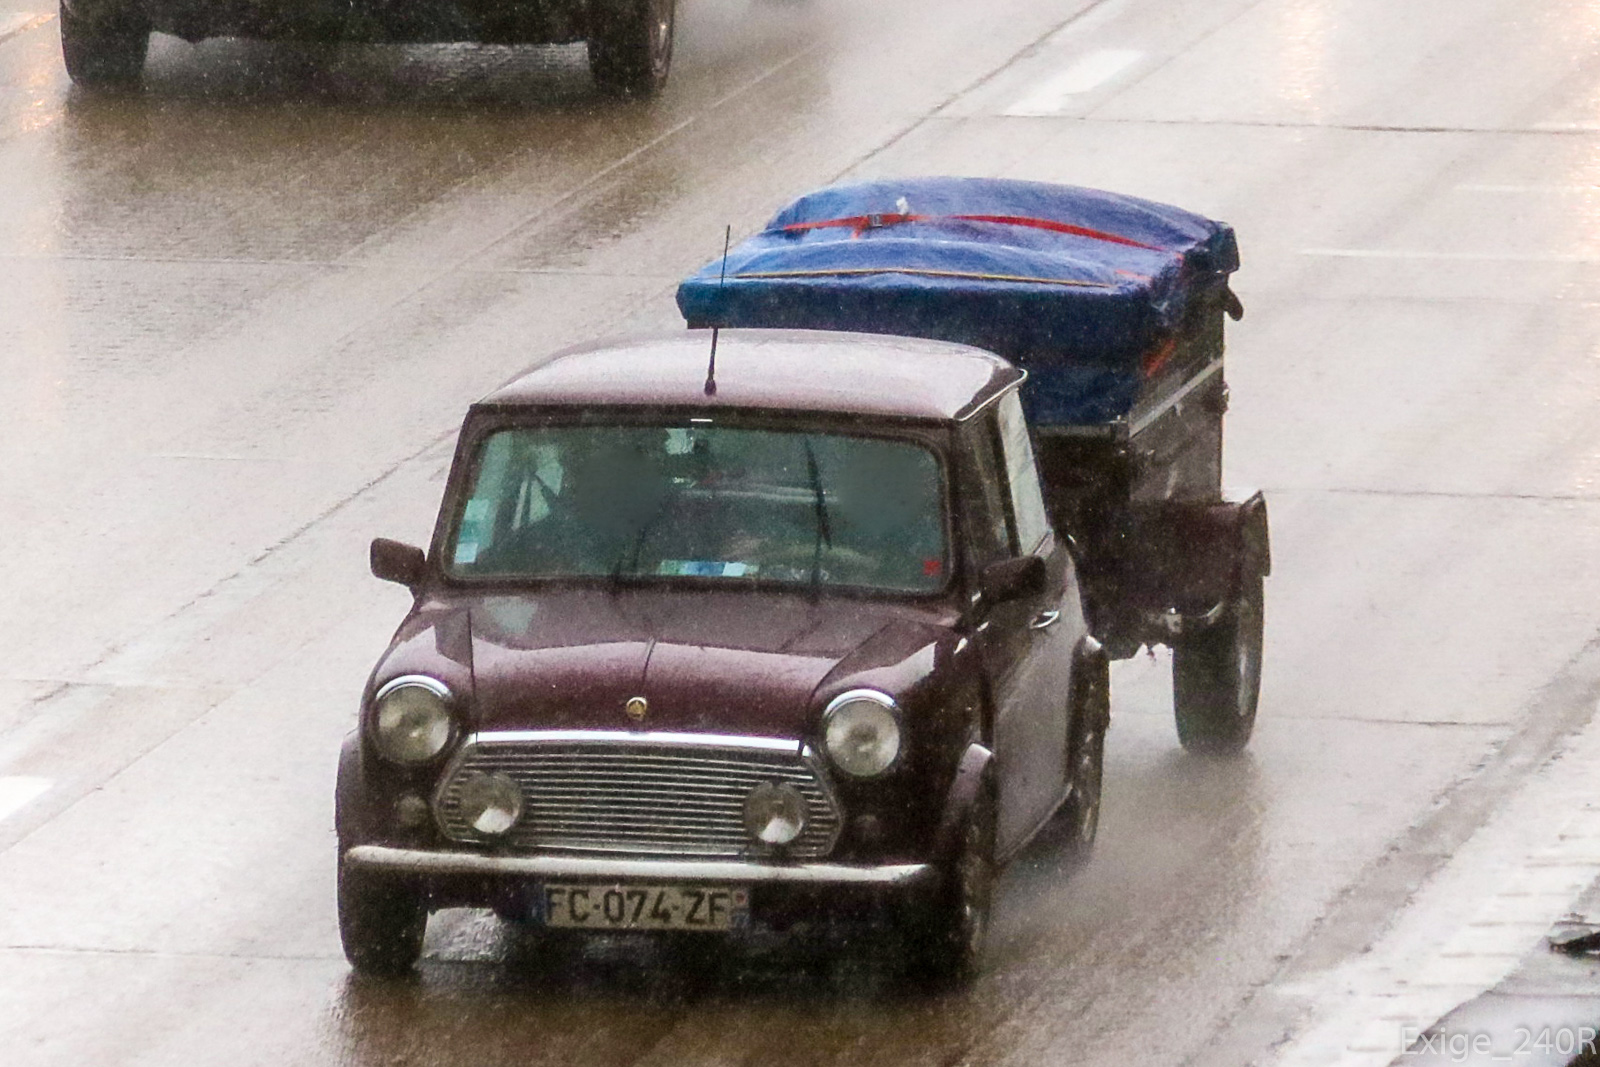licence plate: (517, 877, 757, 936)
